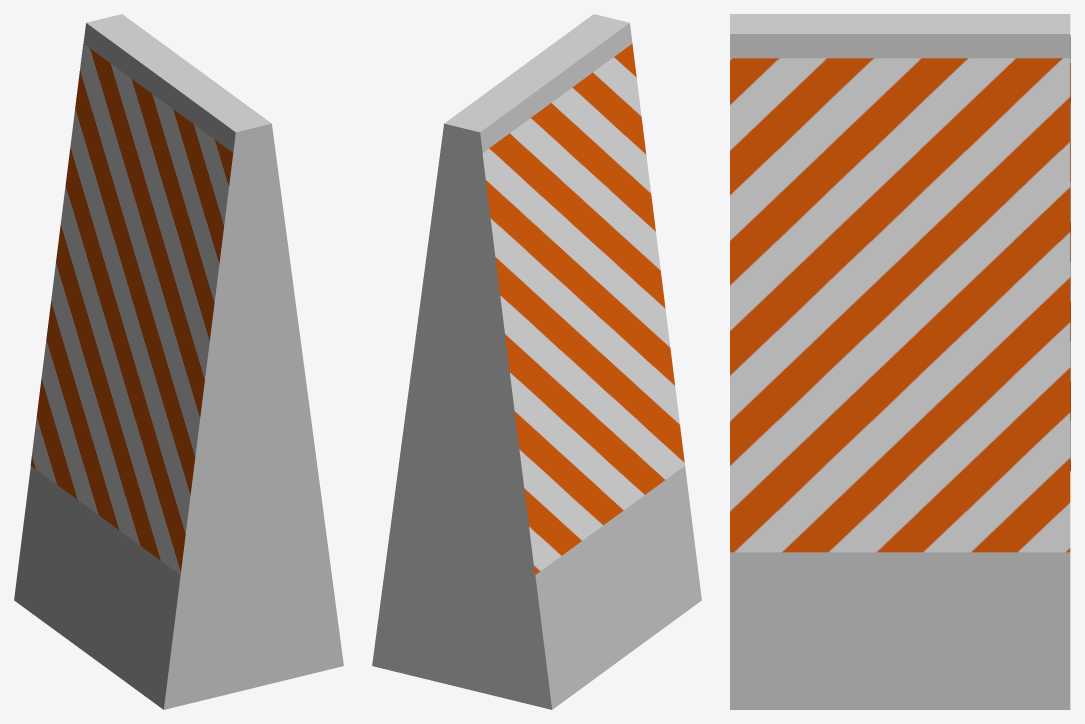
File: construction_sign.dae
3 views of the same model, side by side, from view 1: azimuth 30°, elevation 25°; view 2: azimuth 150°, elevation 25°; view 3: azimuth 270°, elevation 25° (orthographic). The views are drawn at different scales.
Visible parts, largest first — view 1: SketchUp (×2); view 2: SketchUp (×2); view 3: SketchUp (×2).
Boxes of the visible parts, x1,y1,x2,y2 form: SketchUp (×2): [14, 14, 343, 709]; SketchUp (×2): [372, 14, 701, 709]; SketchUp (×2): [730, 14, 1070, 709].
Size of the model in its own units: 9.84 by 14.2 by 29.24.
Materials: 2 (1 with a texture image).
